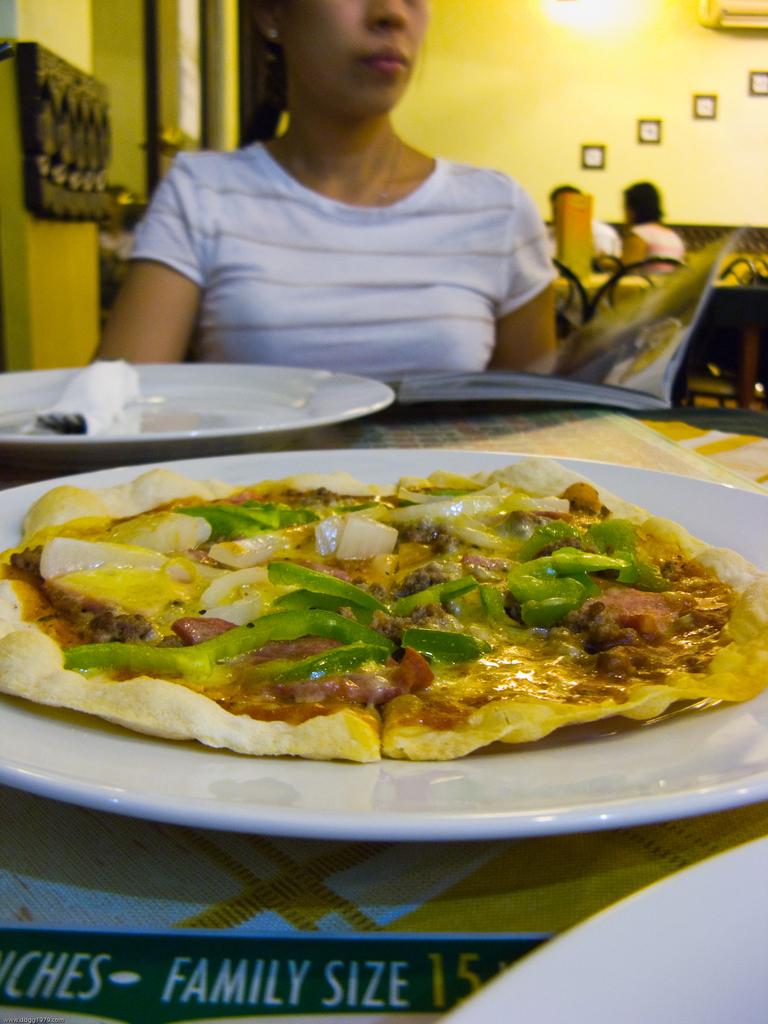pizza: (0, 447, 767, 771)
